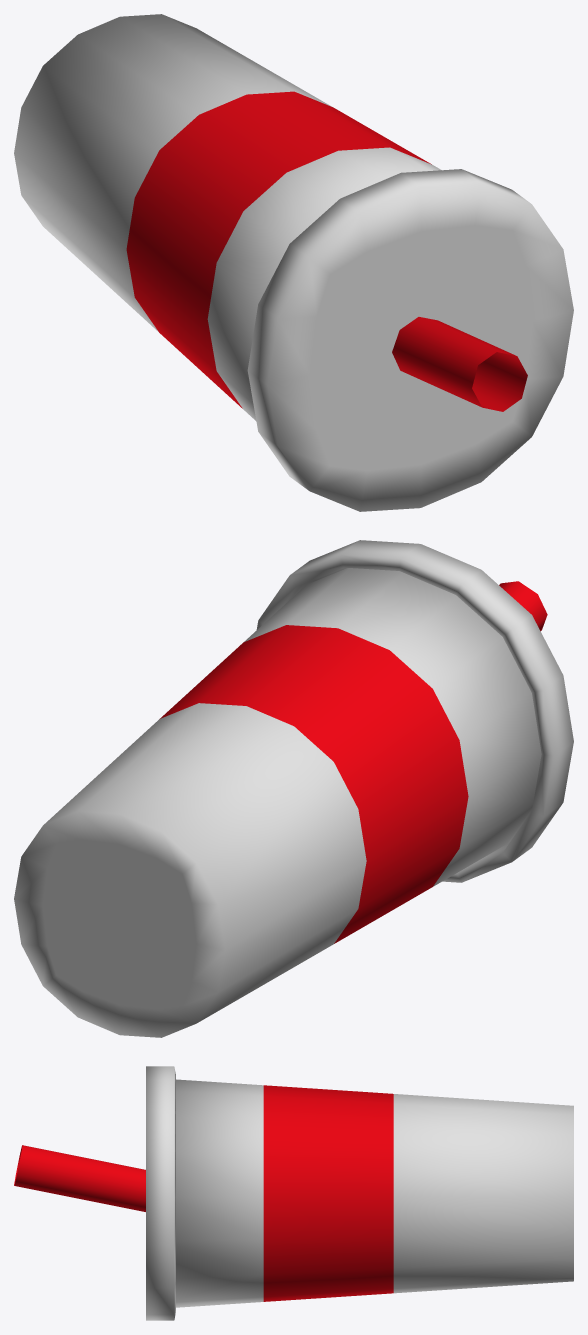
File: drink.fbx
3 renders of one model, top to bottom at view 1: azimuth 30°, elevation 25°; view 2: azimuth 150°, elevation 25°; view 3: azimuth 270°, elevation 25°, orthographic. The views are drawn at different scales.
Visible parts, largest first — view 1: Cube.160; view 2: Cube.160; view 3: Cube.160.
Boxes of the visible parts, x1=… form: Cube.160: x1=14, y1=14, x2=573, y2=511; Cube.160: x1=14, y1=540, x2=573, y2=1037; Cube.160: x1=14, y1=1066, x2=573, y2=1320.
Size of the model in its own units: 39.57 by 39.57 by 88.14.
